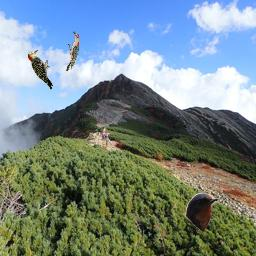Swallow: (185, 192, 219, 232)
Woodpecker: (27, 50, 53, 90), (66, 31, 79, 71)
